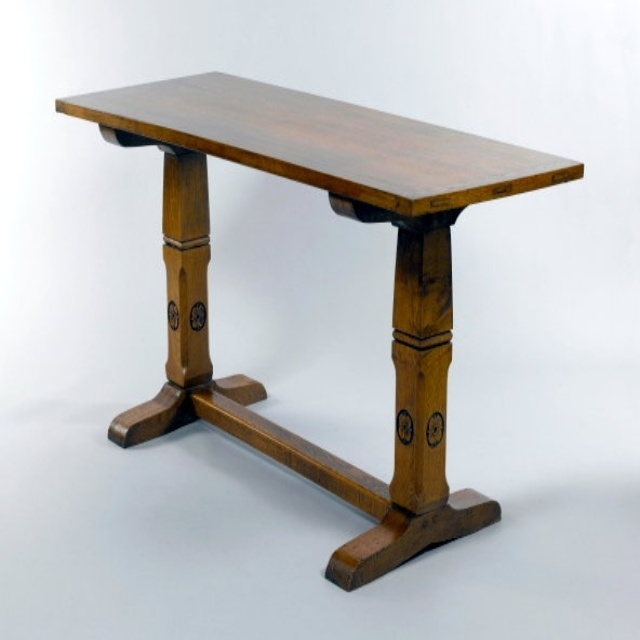obstacle: (56, 73, 583, 589)
